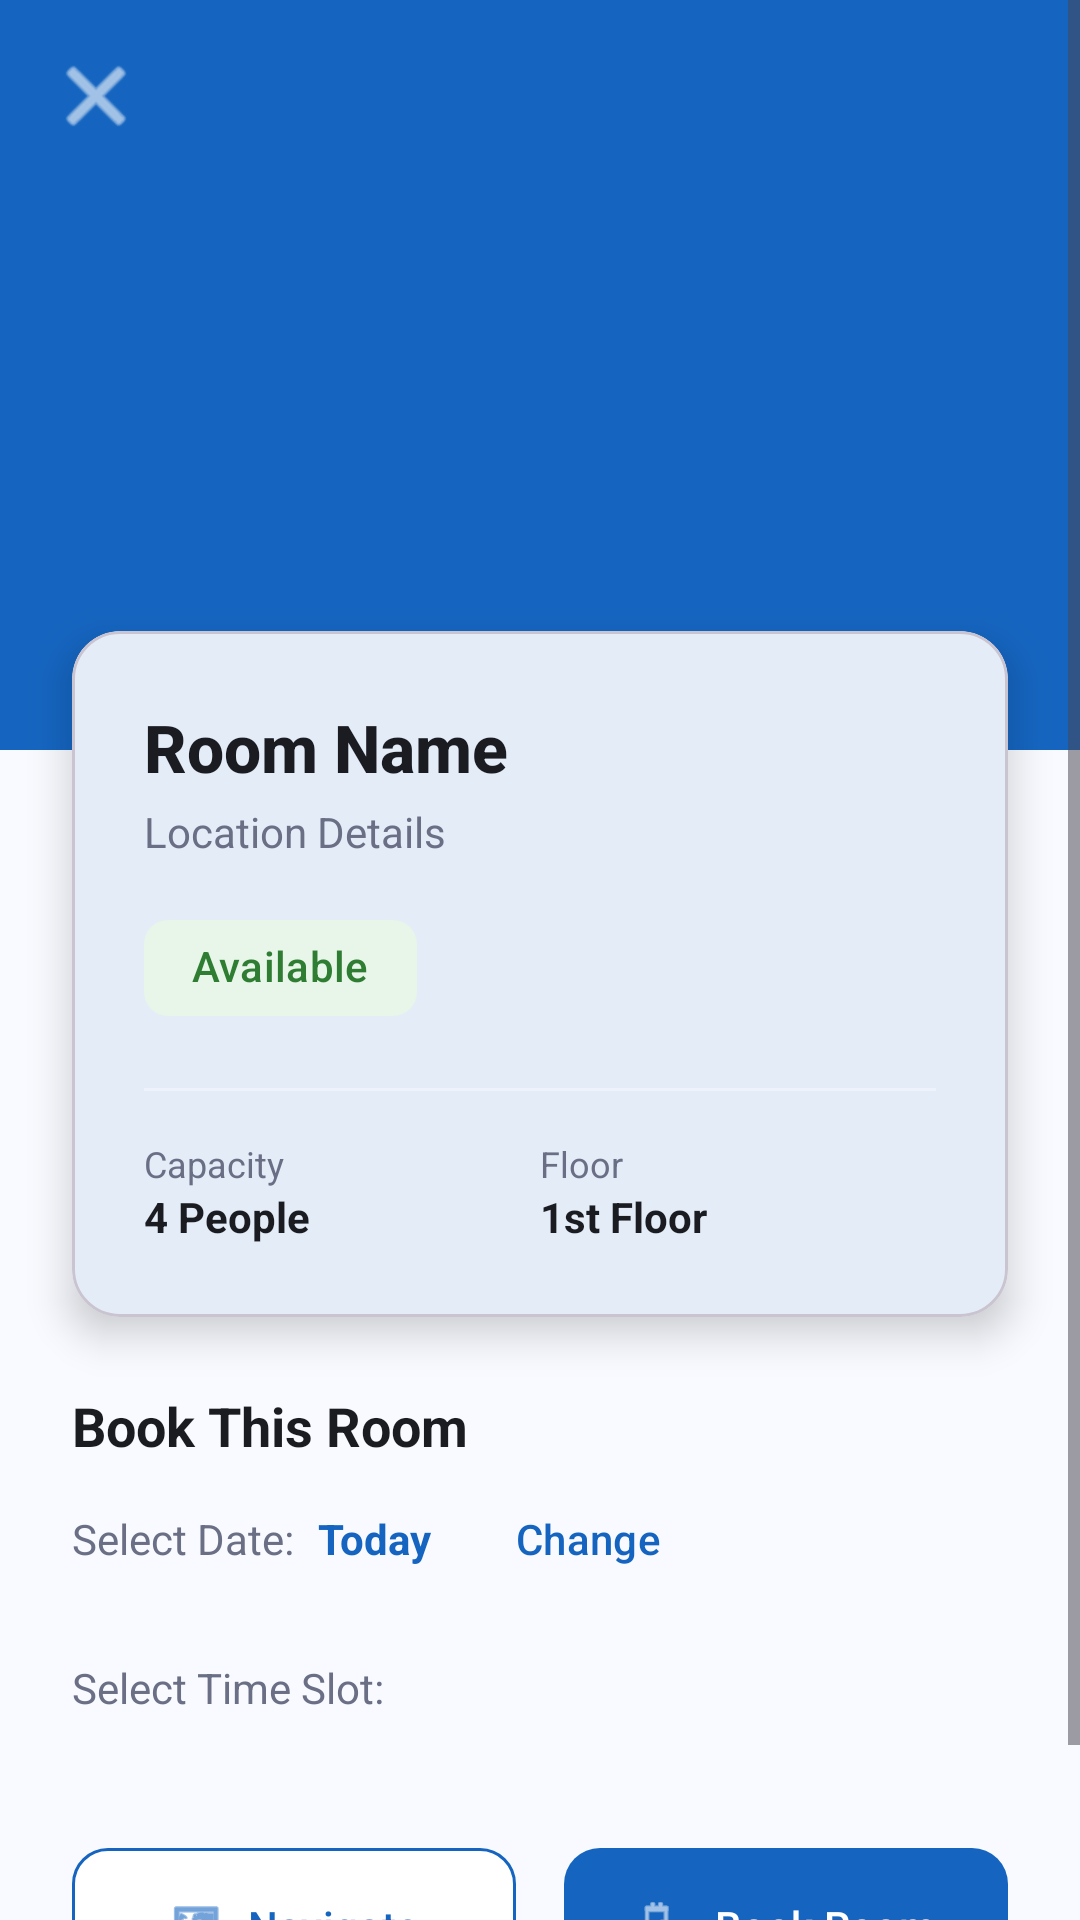

Where icons sit on this 1080*1920 app screen, as (x1, y1, x2, y2):
Back: (66, 66, 126, 126)
